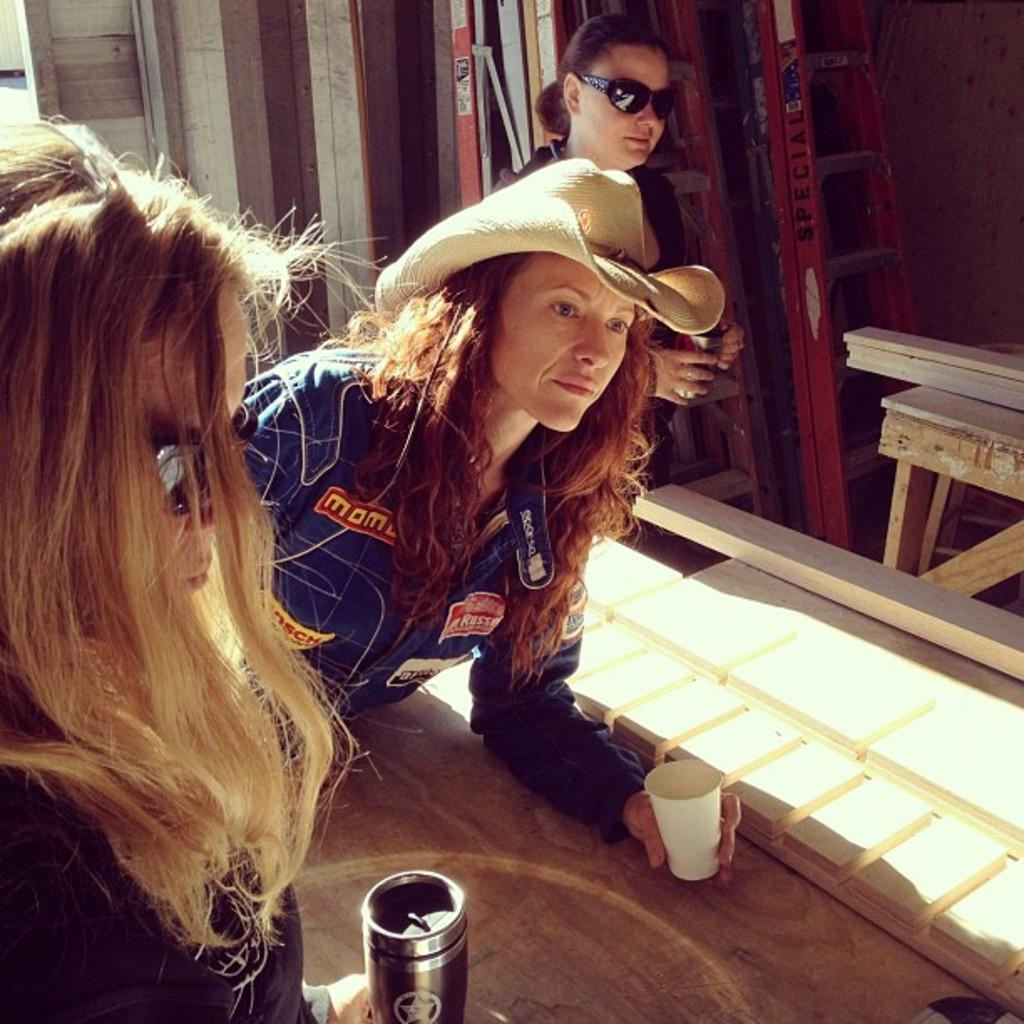Hat: (364, 154, 730, 342)
